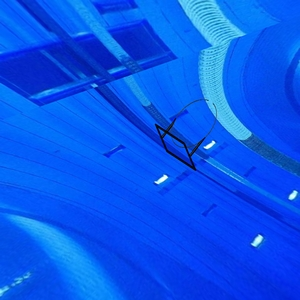circle: (151, 95, 227, 174)
